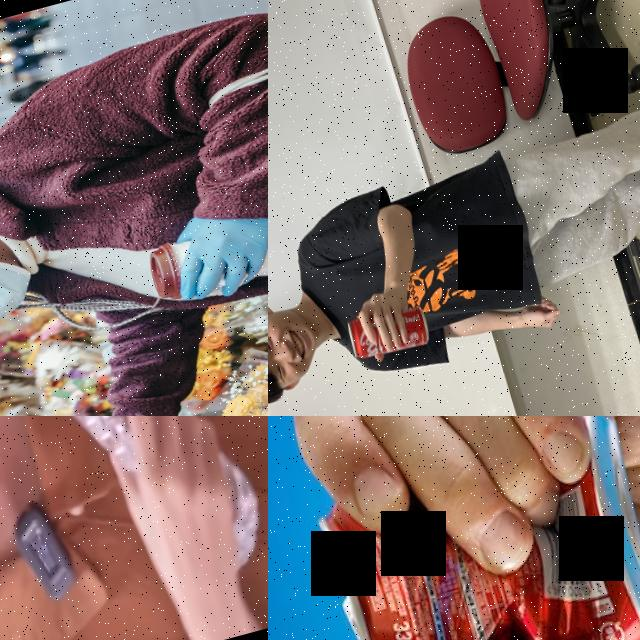bottle: (0, 416, 268, 615)
can: (343, 296, 433, 364)
cup: (139, 211, 268, 304)
